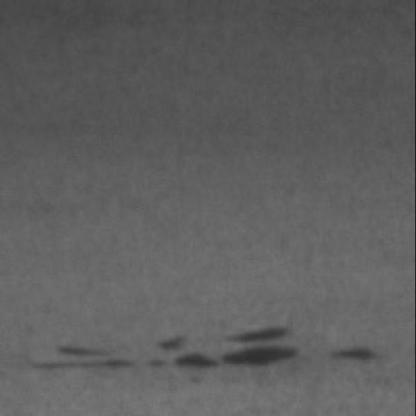inclusion: (31, 330, 225, 380), (220, 324, 308, 378), (326, 344, 385, 373)
